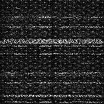lte: (1, 38, 104, 44), (1, 93, 104, 98), (1, 100, 104, 104), (1, 52, 104, 56), (1, 25, 104, 29)
